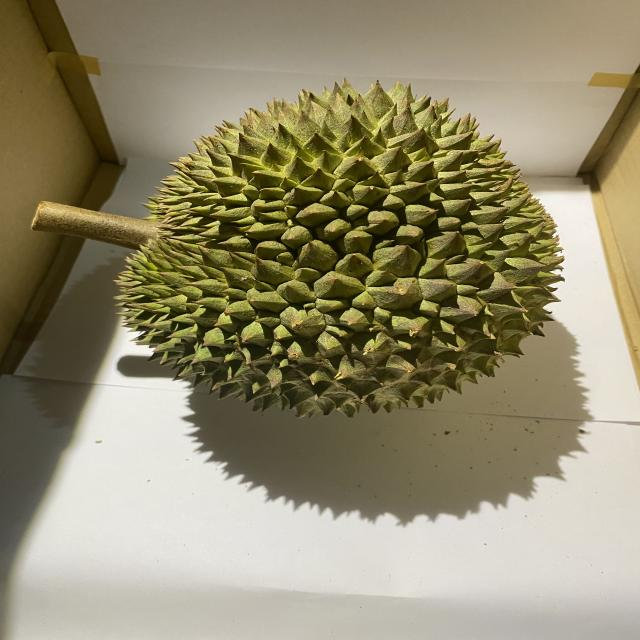immature: (113, 78, 567, 418)
